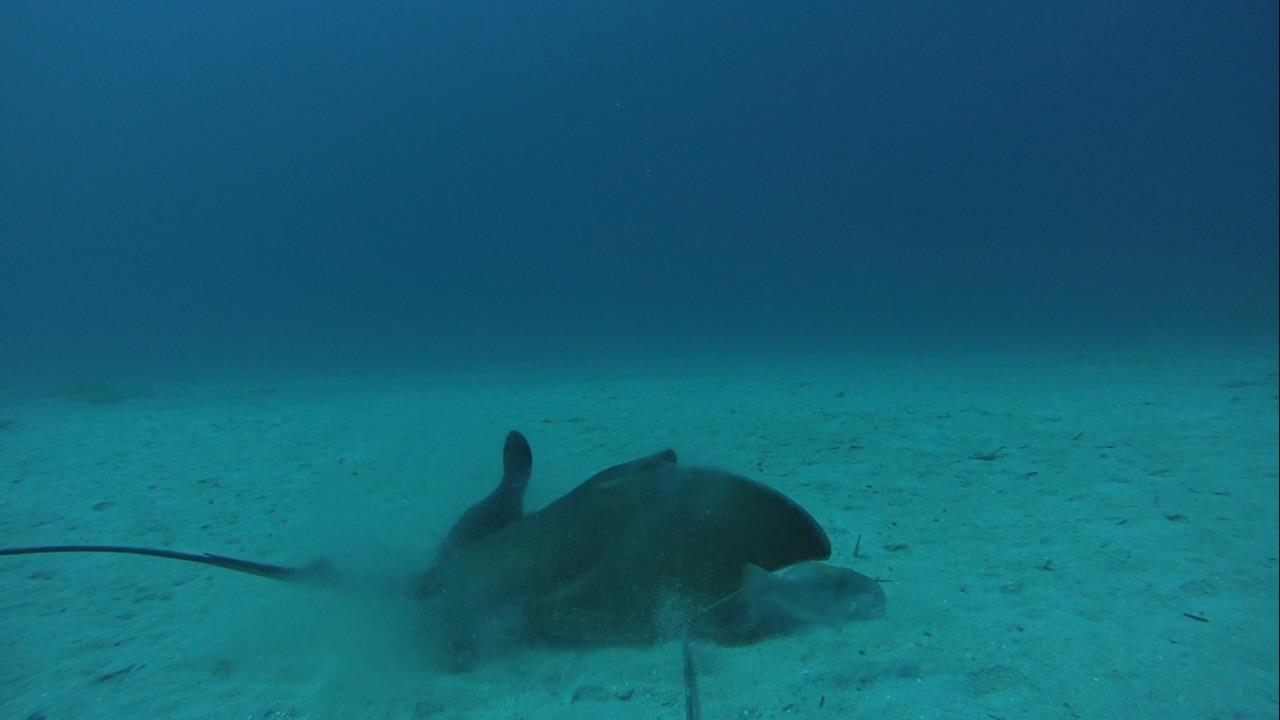myliobatis: (8, 425, 832, 667)
raor: (729, 555, 894, 629)
